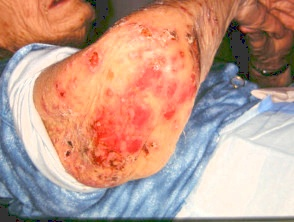SJS-TEN: (3, 0, 294, 222), (0, 0, 43, 57)
